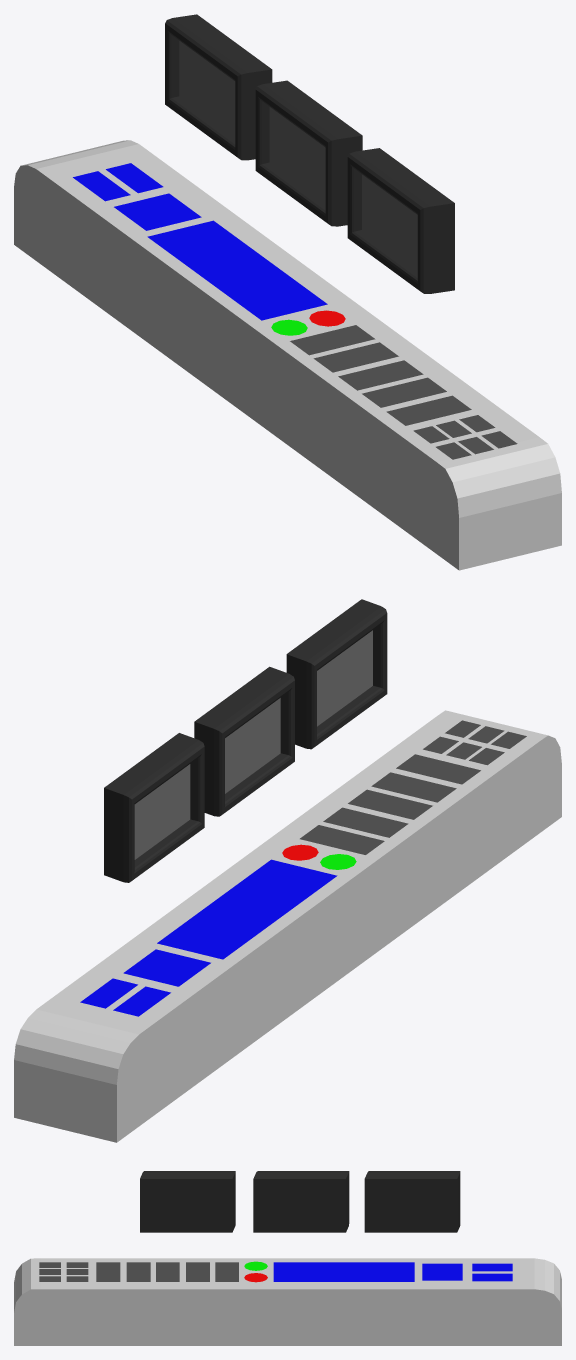
Rendered from tableau de bord.glb.
The picture shows the model from 3 angles, top to bottom: view 1: azimuth 30°, elevation 25°; view 2: azimuth 150°, elevation 25°; view 3: azimuth 270°, elevation 25°; orthographic projection. The views are drawn at different scales.
Visible parts, largest first — view 1: Cube.006; view 2: Cube.006; view 3: Cube.006.
Boxes of the visible parts, x1,y1,x2,y2 form: Cube.006: (14,14,561,570); Cube.006: (14,599,561,1142); Cube.006: (14,1171,561,1345).
Bounding box in the file's own units: 0.7096 × 1.77 × 5.32.
